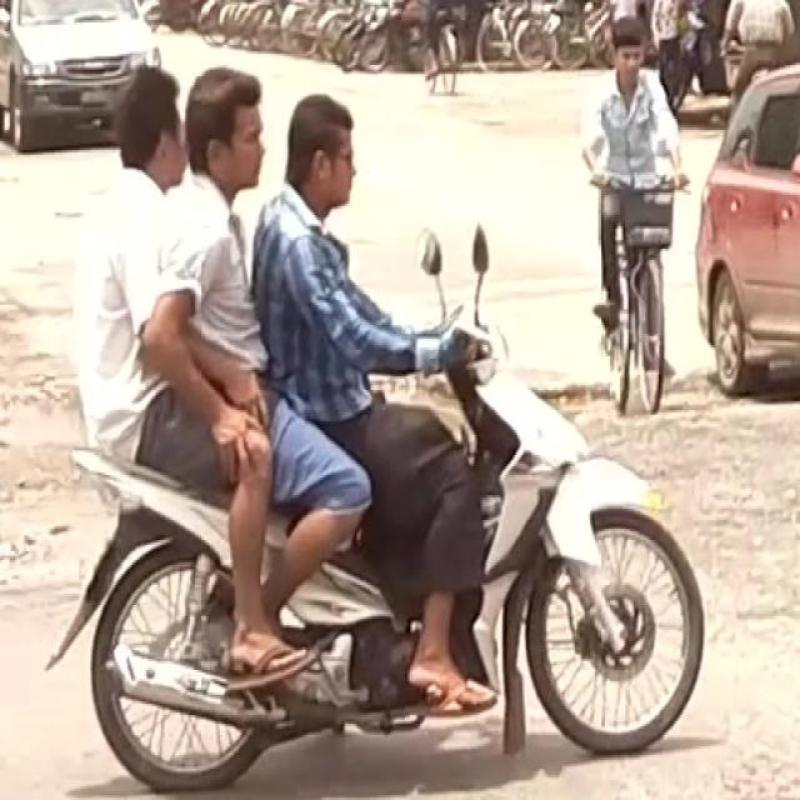nohelmet: (286, 62, 404, 260), (193, 39, 295, 242), (106, 27, 184, 197)
